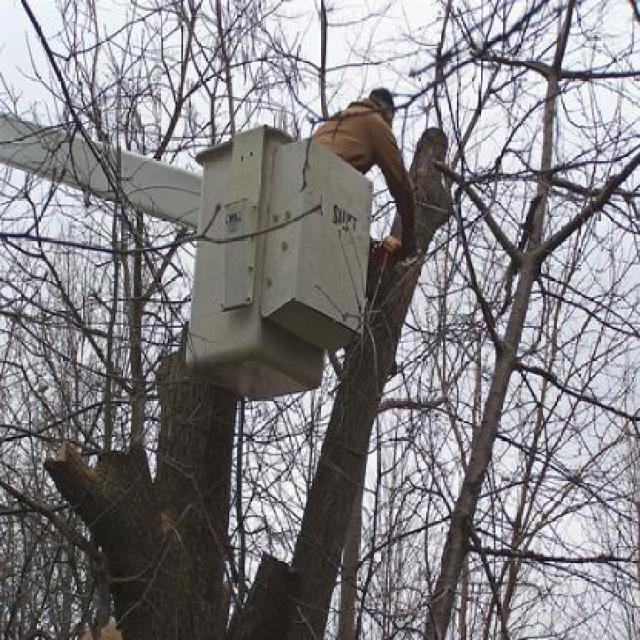Chainsaw: (368, 225, 421, 277)
